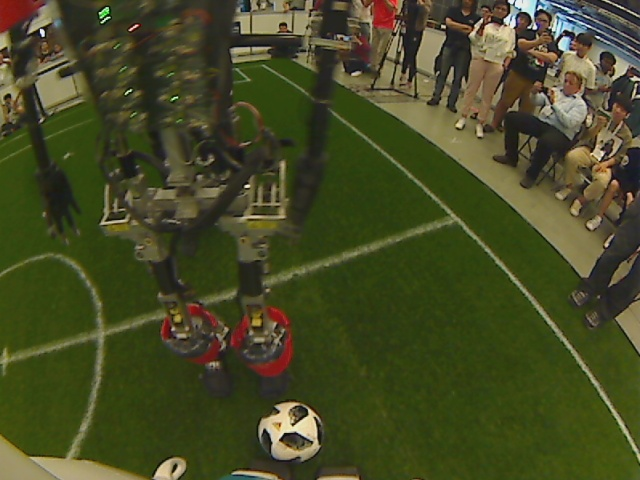ball: (256, 398, 326, 463)
